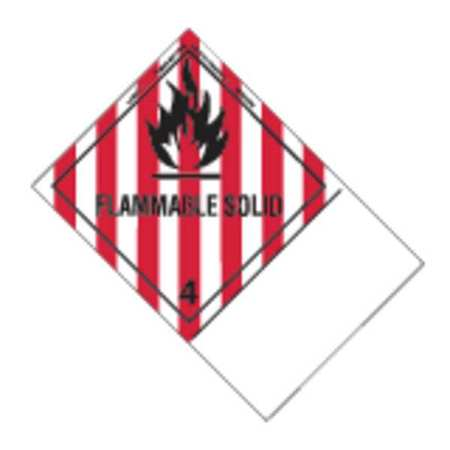FlammableSolid: (46, 46, 343, 318)
